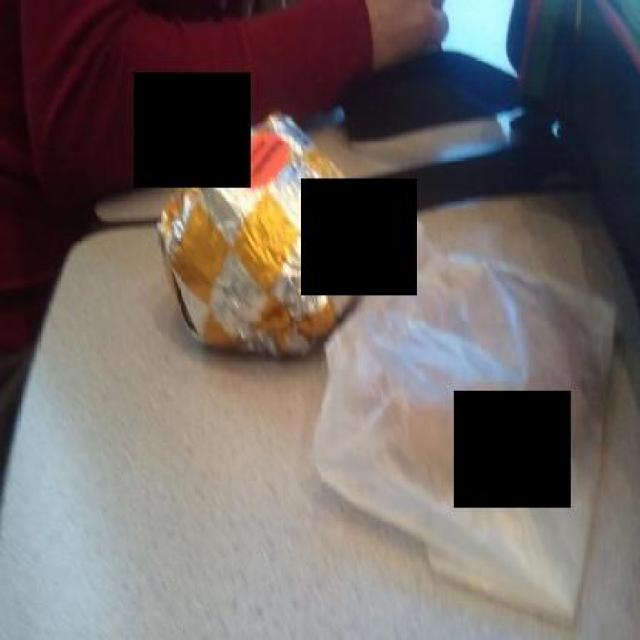plastic bag: (314, 209, 617, 625)
